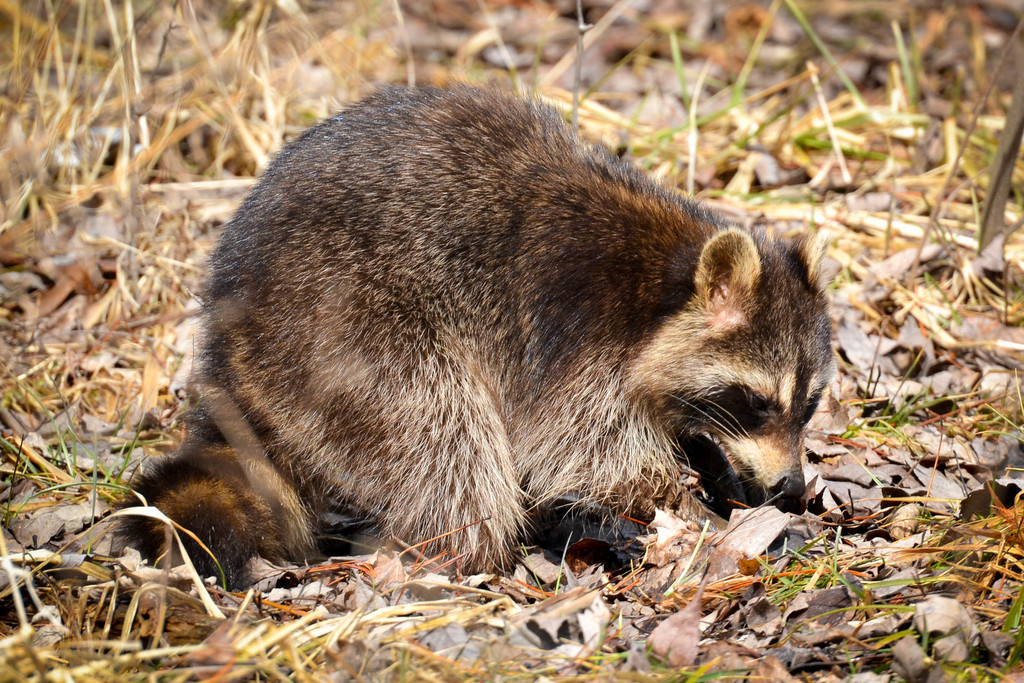raccoon: (136, 84, 832, 590)
